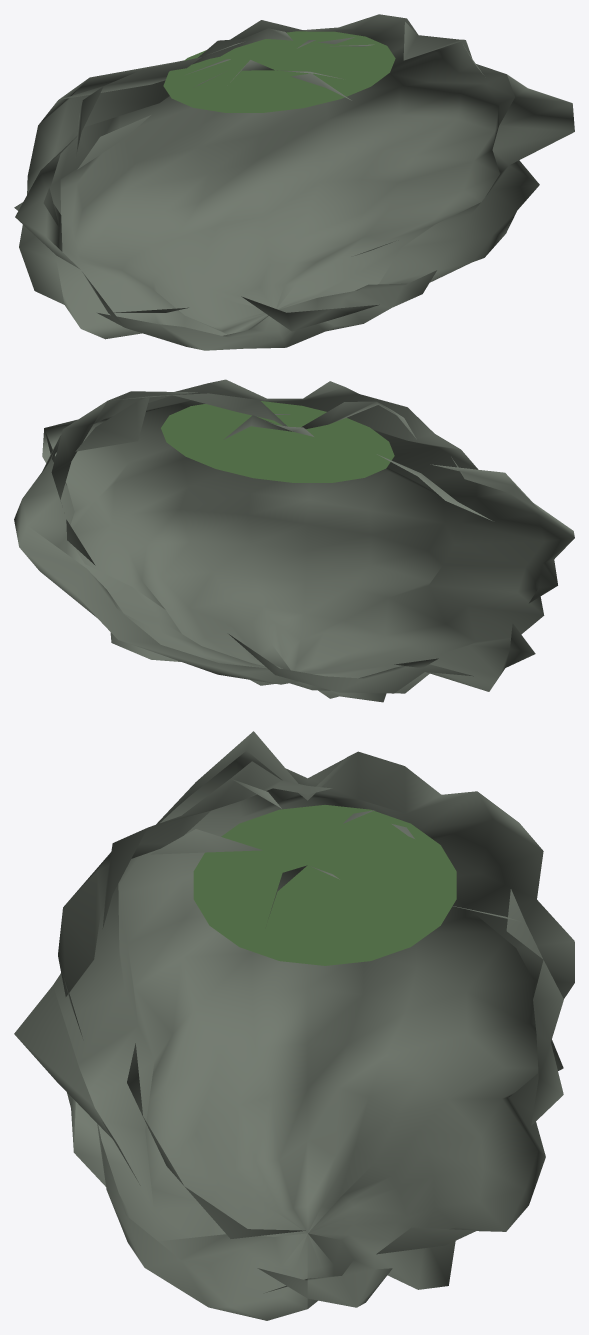
File: rock_2.glb
3 views of the same model, one above another, from view 1: azimuth 30°, elevation 25°; view 2: azimuth 150°, elevation 25°; view 3: azimuth 270°, elevation 25° (orthographic). The views are drawn at different scales.
Parts seen in each view (by area): view 1: rock_mesh, rock_moss; view 2: rock_mesh, rock_moss; view 3: rock_mesh, rock_moss.
Boxes of the visible parts, x1=… form: rock_mesh: x1=14, y1=14, x2=574, y2=350; rock_moss: x1=163, y1=31, x2=395, y2=112; rock_mesh: x1=14, y1=379, x2=574, y2=702; rock_moss: x1=161, y1=401, x2=394, y2=482; rock_mesh: x1=14, y1=731, x2=574, y2=1320; rock_moss: x1=193, y1=805, x2=456, y2=965.
Bounding box in the file's own units: 2.73 × 1.36 × 1.62.
